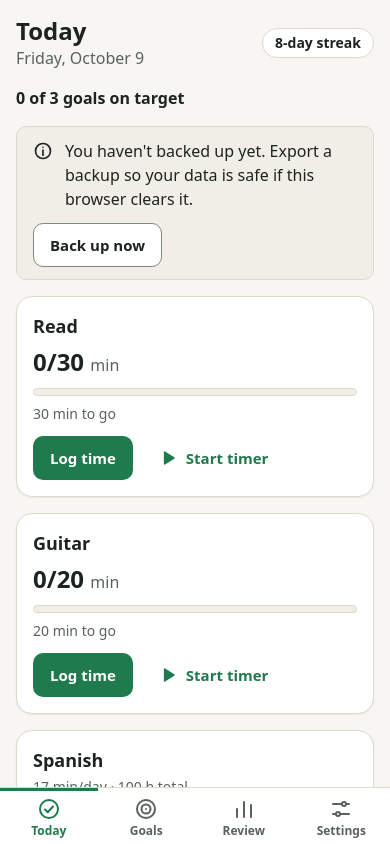
it: Today timer (M2-AC1, AC2, AC3, AC4, AC5) › Stop opens D1 pre-filled with the rounded minutes; Save creates a timer entry on the start day
Click the button "Start timer" below "30 min to go": (213, 458) [141,436,285,480]
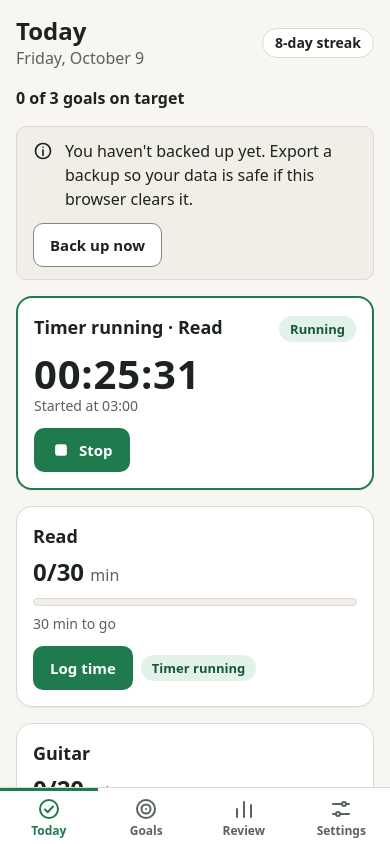
Expected: the text "00:25:31" is shown, [34,346,200,401]
Click the button with aria-label "Stop timer for Read": (82, 450) [34,428,130,472]
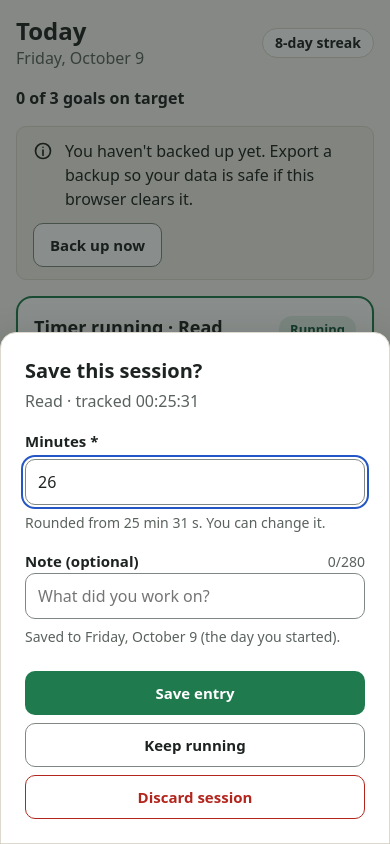
Expected: the heading "Save this session?" is shown, [25,357,202,384]
Expected: the text "Read · tracked 00:25:31" is shown, [25,390,199,412]
Expected: the field labelled "Minutes *" holds "26"
Replace the text in the field labelled "Minutes *" with "25": (195, 482) [25,459,365,505]
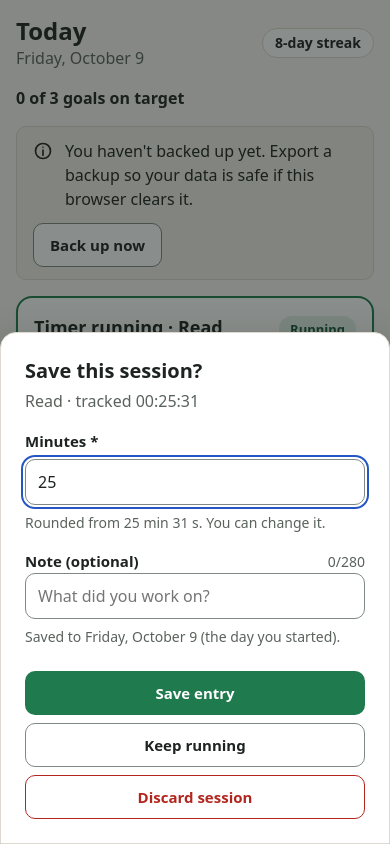
In the field labelled "Note (optional)": (195, 596) [25,573,365,619], type "Pomodoro"
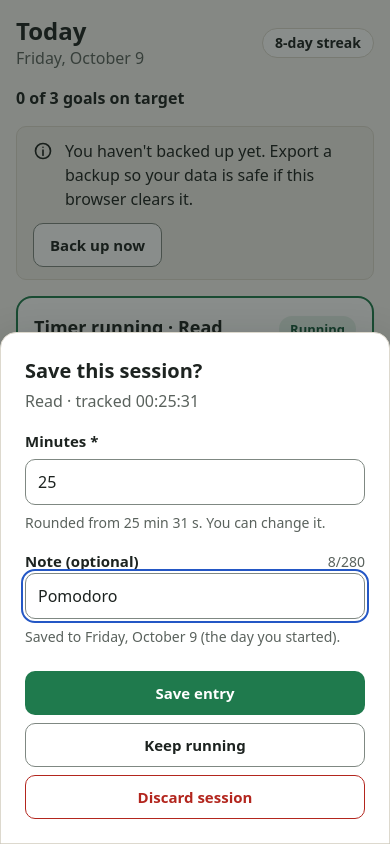
Click the button "Save entry": (195, 693) [25,671,365,715]
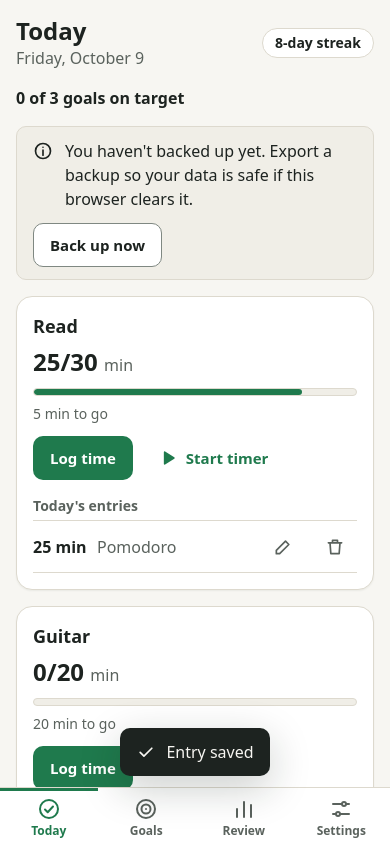
Expected: the text "25/30" is shown, [33,345,98,378]
Expected: the message reads "Entry saved", [166,741,254,763]
Expected: the element with test id "timer-card" is gone
